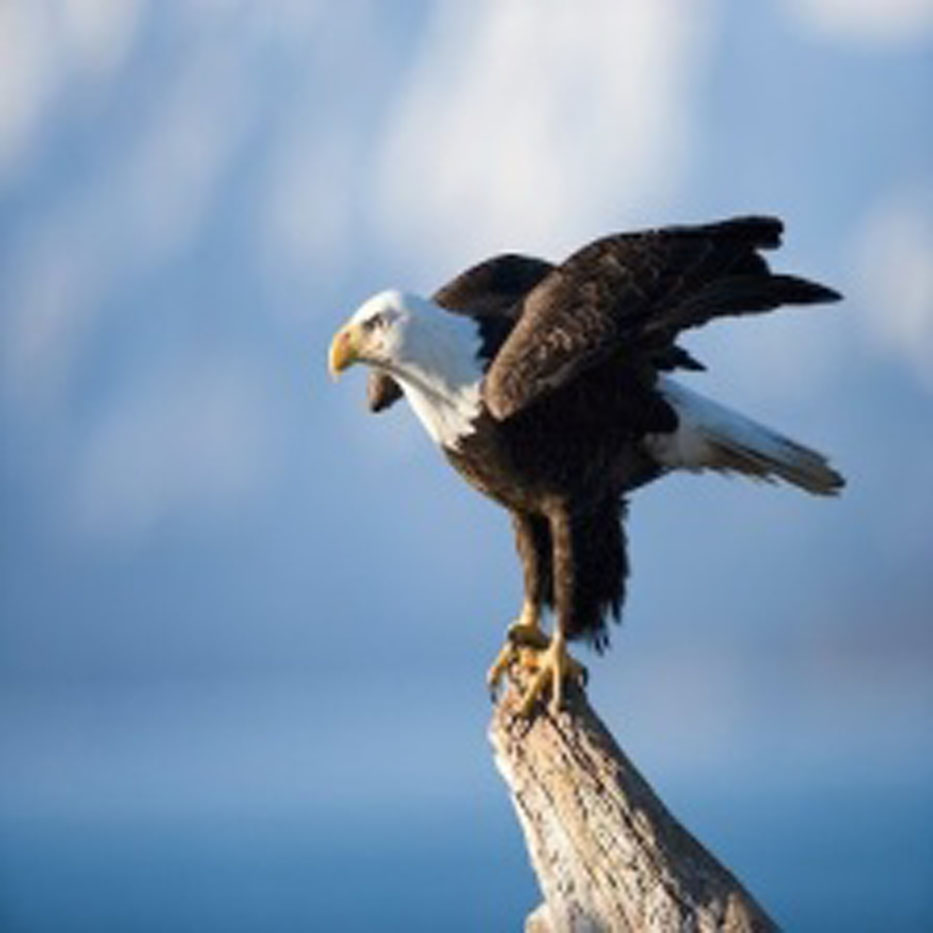Pengoyak Daging: (306, 330, 369, 395)
